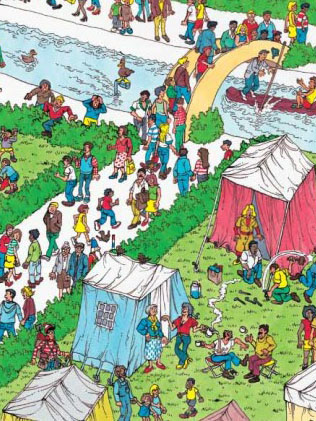waldo: (44, 322, 57, 340)
